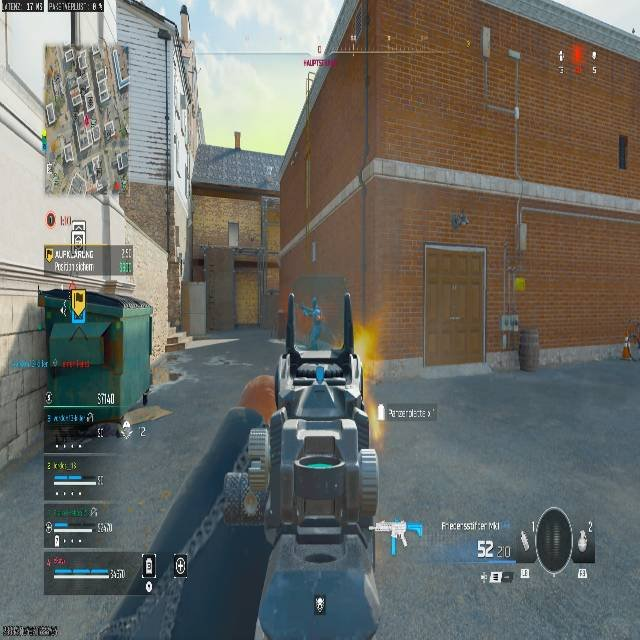player: (304, 298, 324, 348)
